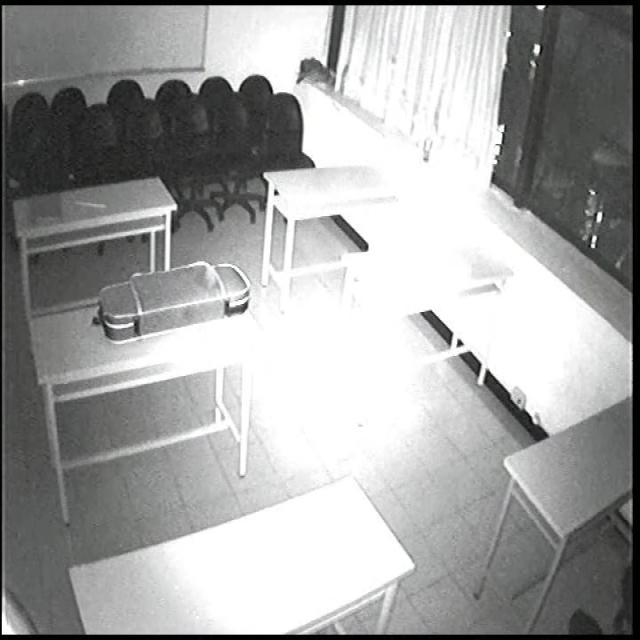abandoned-object: (81, 225, 288, 328)
